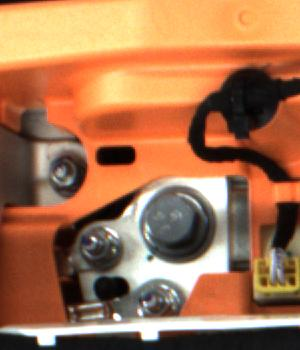nut_b: (135, 179, 220, 268)
screw_s: (47, 158, 93, 195), (74, 225, 117, 263), (126, 285, 173, 318)
